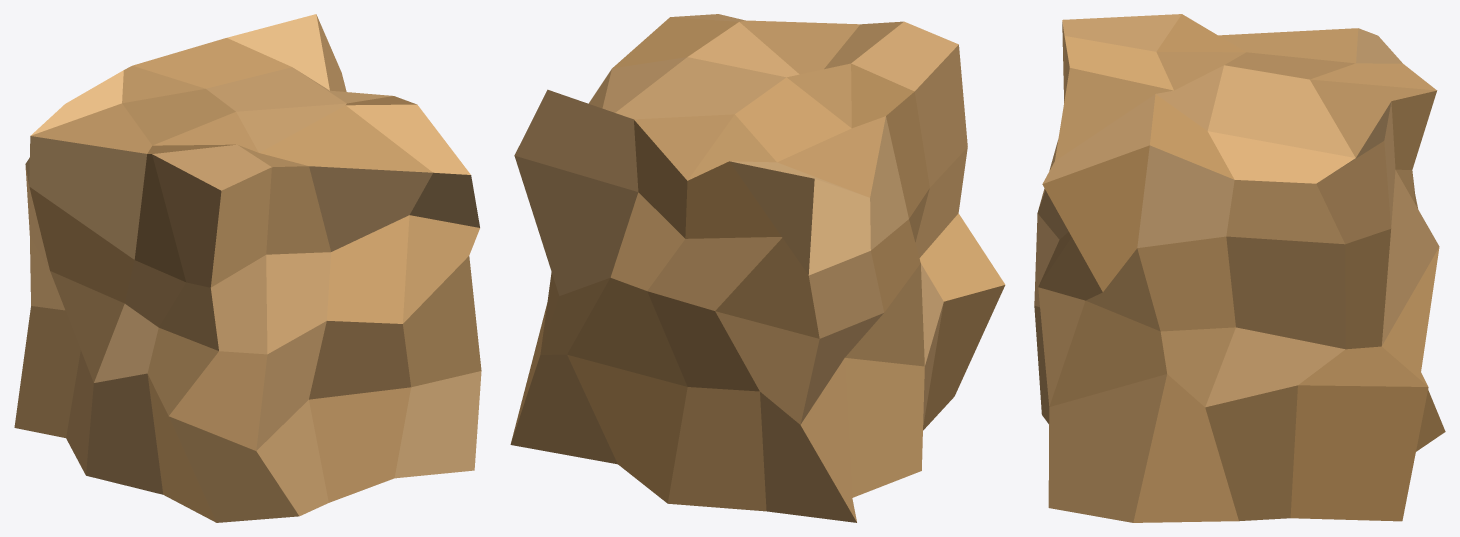
The model's file is Sandstone_d.fbx.
3 views of the same model, side by side, from view 1: azimuth 30°, elevation 25°; view 2: azimuth 150°, elevation 25°; view 3: azimuth 270°, elevation 25° (orthographic). The views are drawn at different scales.
Parts seen in each view (by area): view 1: Sandstone_d; view 2: Sandstone_d; view 3: Sandstone_d.
Boxes of the visible parts, bbox=[...] form: Sandstone_d: bbox=[14, 14, 481, 522]; Sandstone_d: bbox=[510, 14, 1005, 522]; Sandstone_d: bbox=[1034, 14, 1445, 522].
Size of what is drawn, in the model's own units: 1 by 1 by 1.
